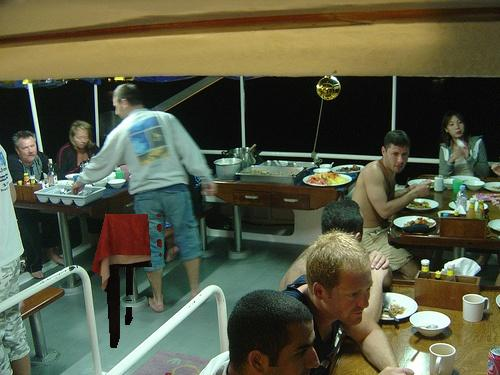tampered: (92, 215, 162, 348)
